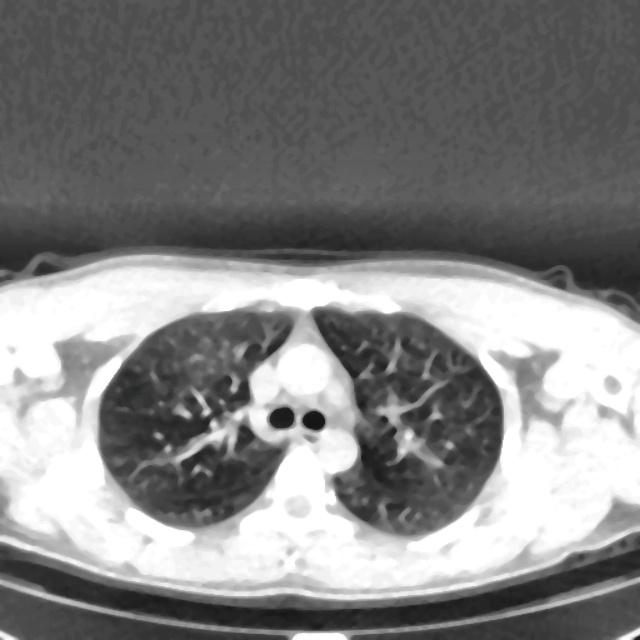covid: (0, 246, 639, 609)
